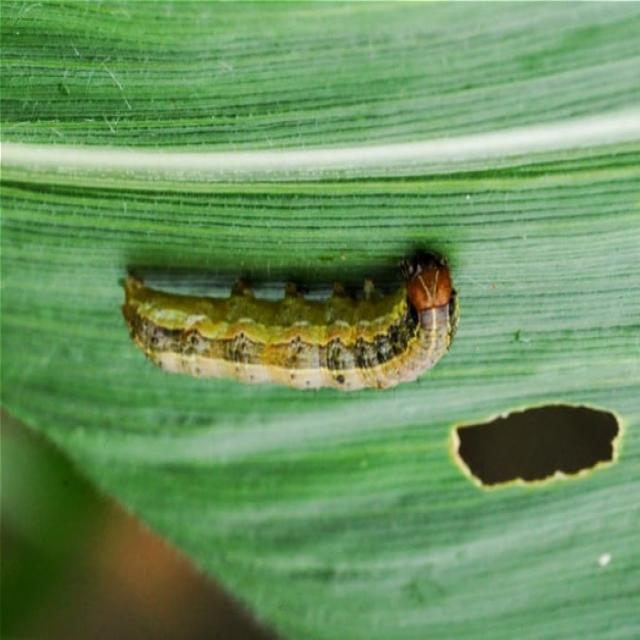armyworm: (118, 246, 459, 392)
